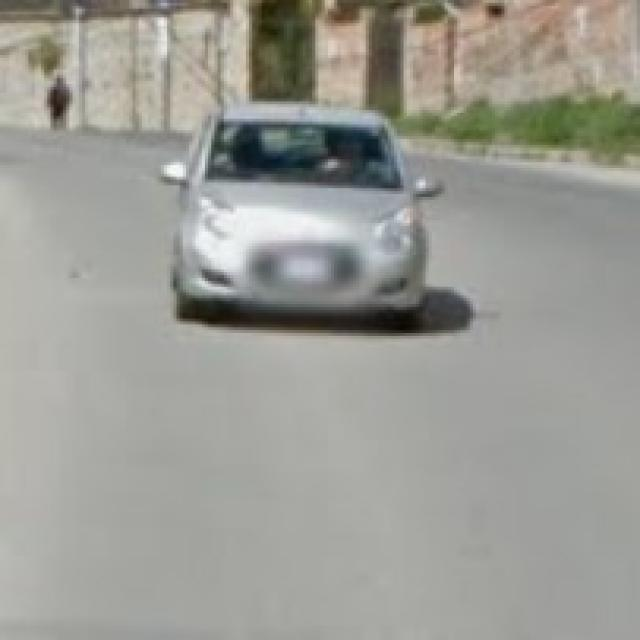cars: (168, 104, 444, 339)
